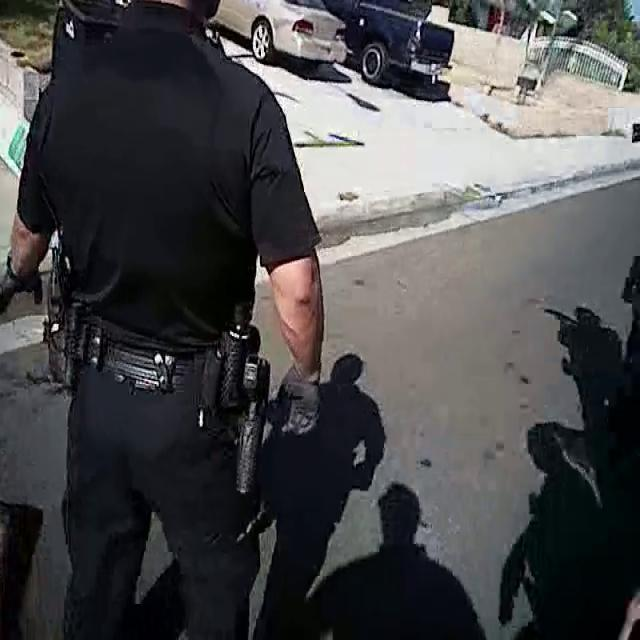gun: (212, 330, 306, 506)
